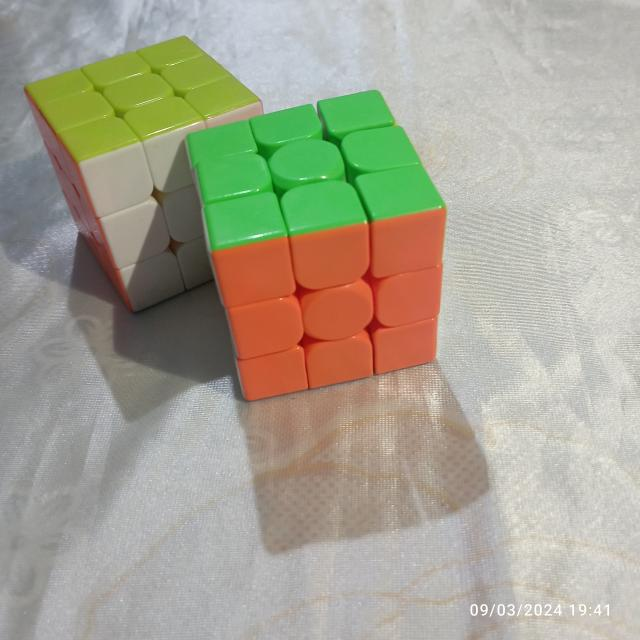Rub: (179, 86, 452, 407), (21, 32, 264, 322)
